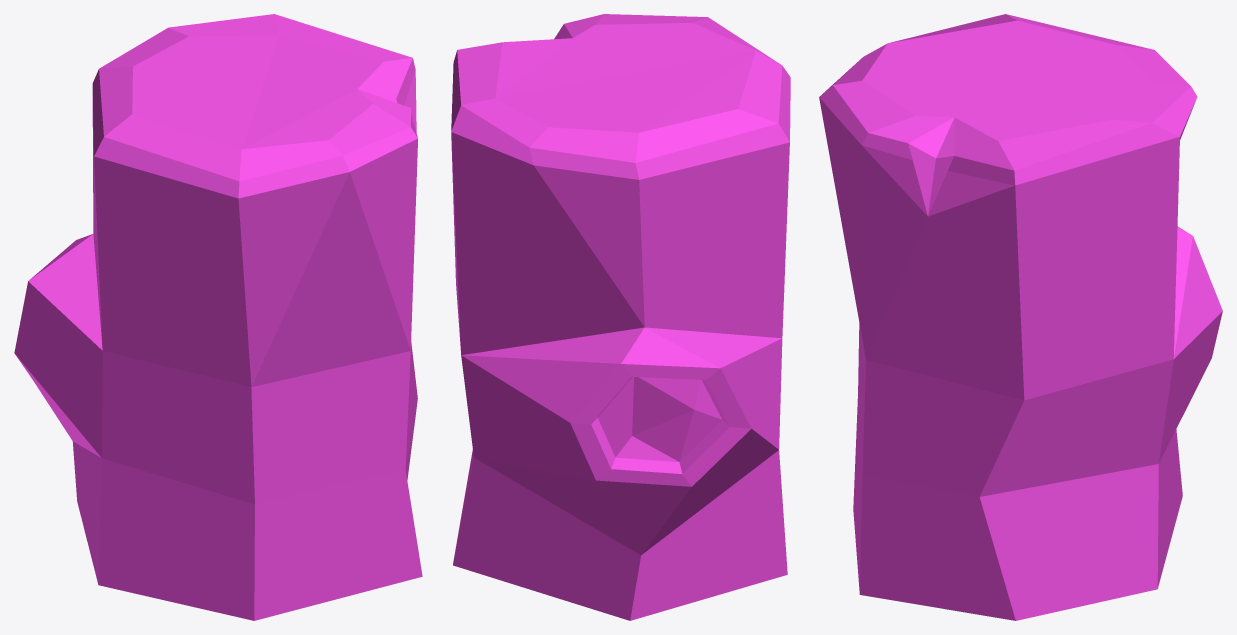
File: SM_Wood_Axe_Stump_Fantasy.fbx
3 views of the same model, side by side, from view 1: azimuth 30°, elevation 25°; view 2: azimuth 150°, elevation 25°; view 3: azimuth 270°, elevation 25° (orthographic). The views are drawn at different scales.
Parts seen in each view (by area): view 1: SM_Wood_Axe_Stump_Fantasy; view 2: SM_Wood_Axe_Stump_Fantasy; view 3: SM_Wood_Axe_Stump_Fantasy.
Part boxes in pixels (x1=…): SM_Wood_Axe_Stump_Fantasy: x1=14, y1=14, x2=422, y2=620; SM_Wood_Axe_Stump_Fantasy: x1=451, y1=14, x2=790, y2=620; SM_Wood_Axe_Stump_Fantasy: x1=819, y1=14, x2=1222, y2=620.
Bounding box in the file's own units: 0.6348 × 0.8011 × 0.6247.
